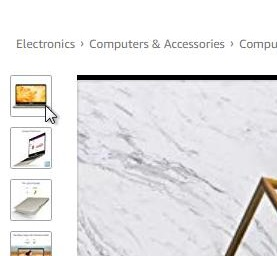cursor: (41, 102, 59, 126)
